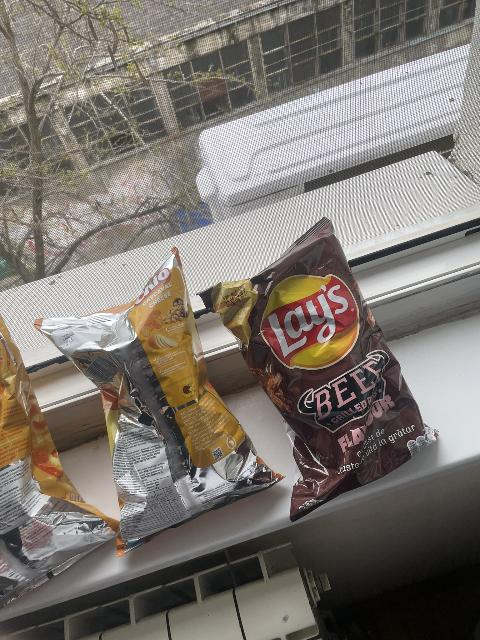Chio Cascaval 125g: (31, 249, 287, 543)
Chio Hula Hoops Cheese 70g: (0, 310, 120, 608)
Lays Beef Grilled Ribs 125g: (194, 217, 441, 520)
